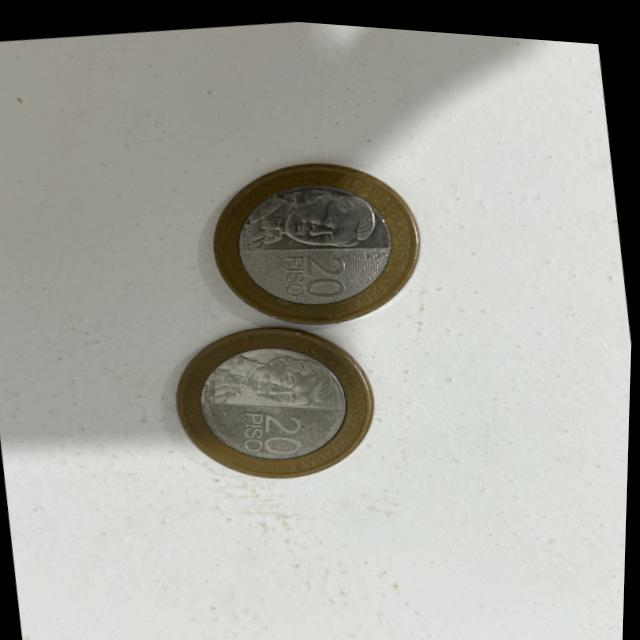20_New_Front: (226, 389, 316, 463), (284, 240, 360, 303)
